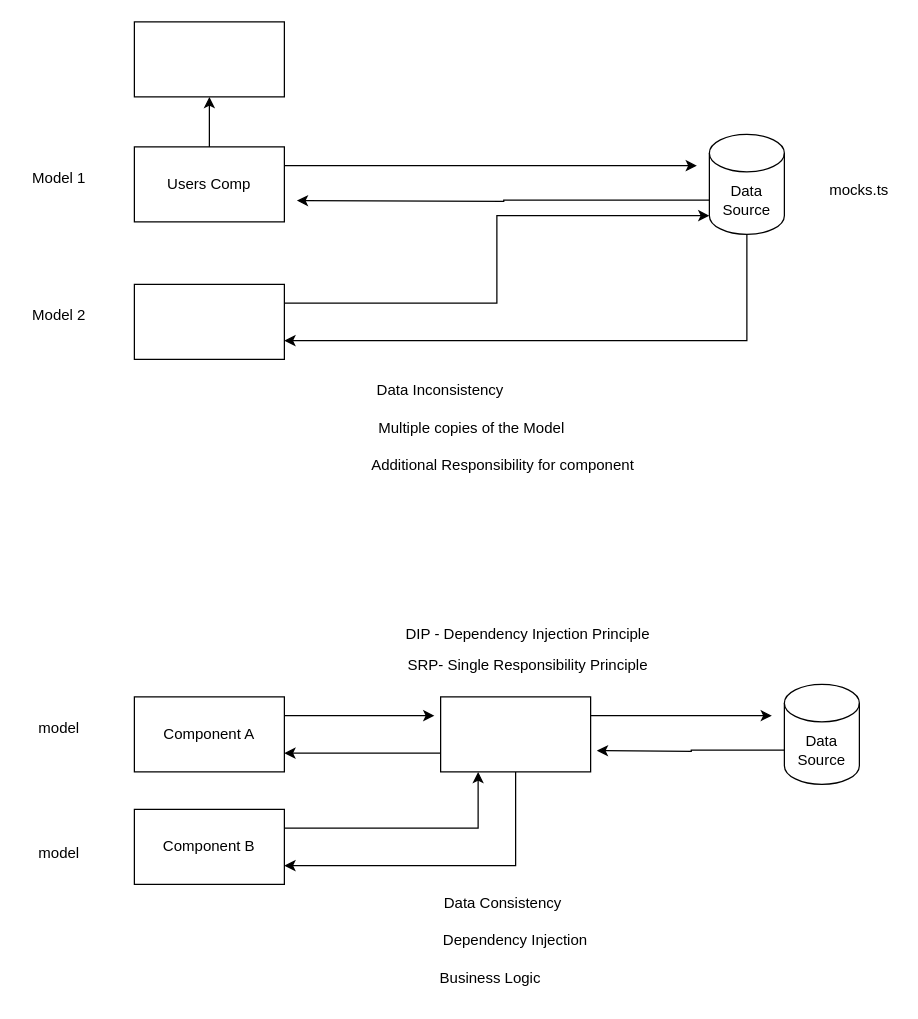
This 918x1019 diagram has some shape labels left out. The shapes that lost their labels are listed below. From the top down, each one's box as (x1, y1, x2, y2) in pixels, then its label:
(133, 21, 284, 97): UI
(133, 283, 284, 359): Employee Comp
(439, 696, 591, 772): Service Layer (Singleton)
